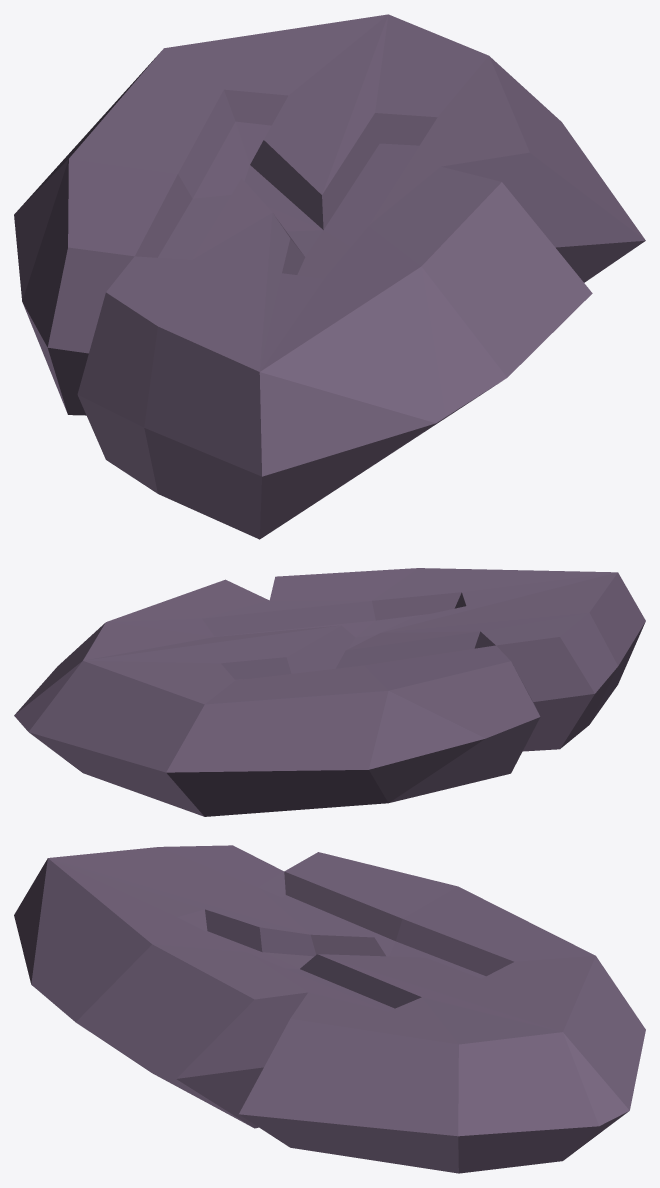
The model's file is Rune_03.FBX.
3 views of the same model, one above another, from view 1: azimuth 30°, elevation 25°; view 2: azimuth 150°, elevation 25°; view 3: azimuth 270°, elevation 25° (orthographic). The views are drawn at different scales.
Parts seen in each view (by area): view 1: Rune_03; view 2: Rune_03; view 3: Rune_03.
Boxes of the visible parts, x1,y1,x2,y2 form: Rune_03: (14, 14, 645, 539); Rune_03: (14, 568, 645, 816); Rune_03: (14, 845, 645, 1173).
Bounding box in the file's own units: 38.59 × 9.61 × 42.68.
